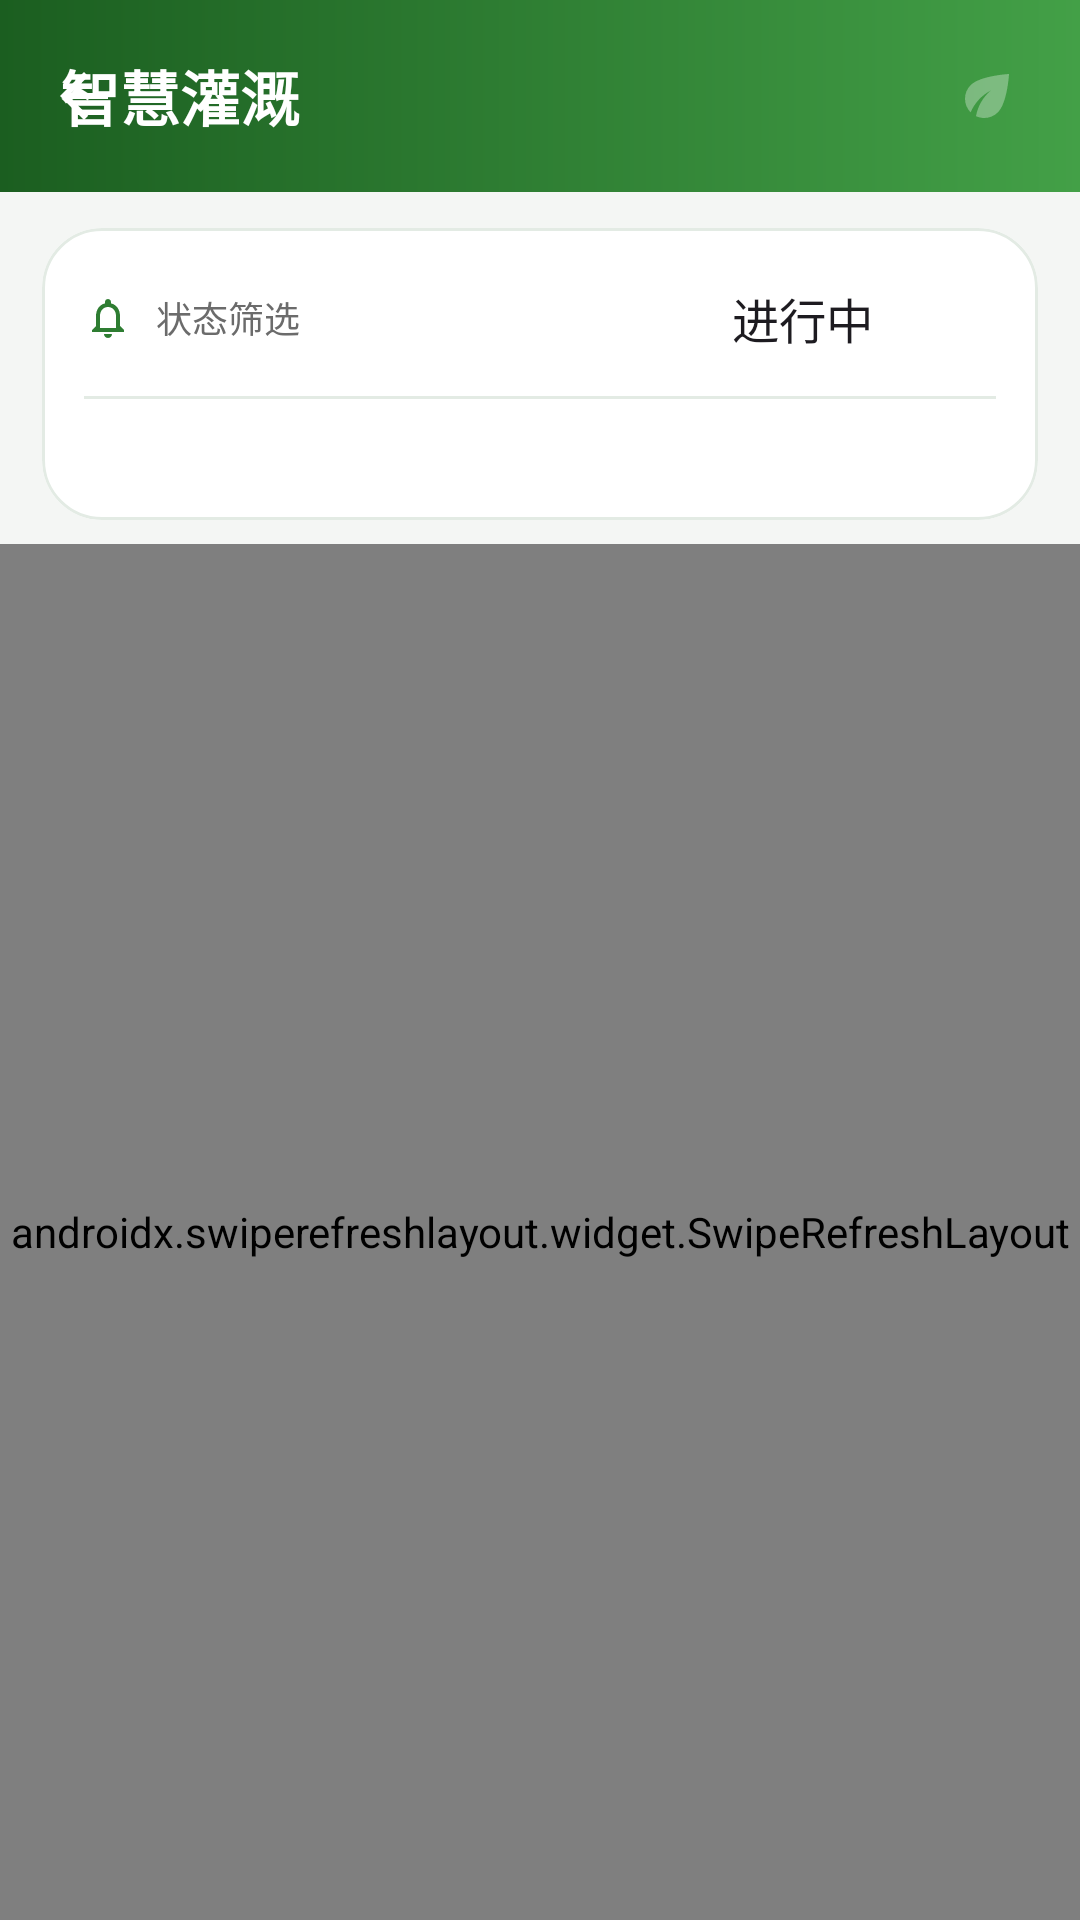

Point at icon controls on the screen. Image size 1080px x 1920px, points as (x=x, y=y).
bell: (x=108, y=318)
leaf: (x=987, y=96)
